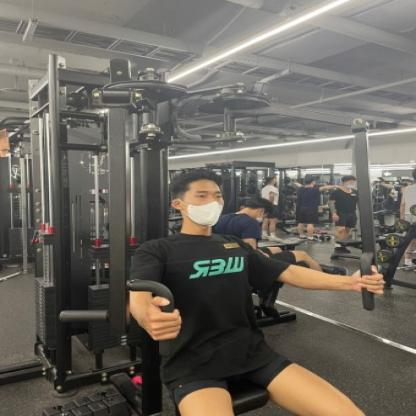chest fly machine: (0, 46, 416, 416)
